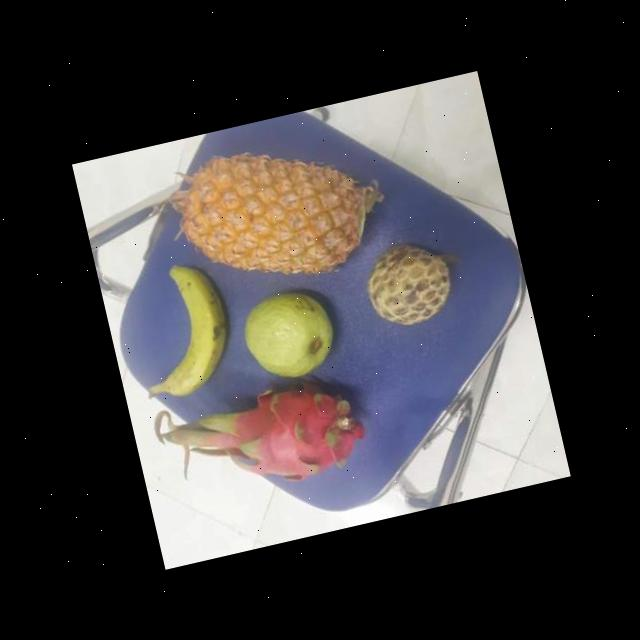Sakya fruit: (355, 227, 462, 333)
banana: (130, 253, 238, 397)
guava: (236, 279, 340, 386)
pineapple: (166, 118, 390, 300)
pitaya: (198, 367, 362, 495)
